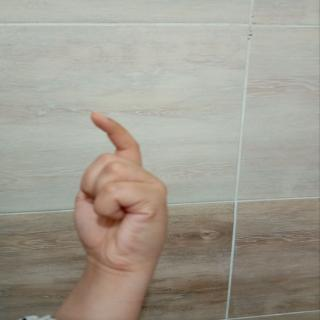RAA: (50, 109, 204, 294)
